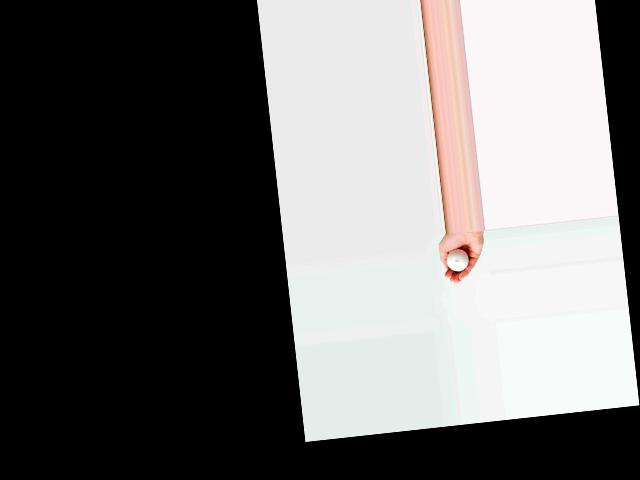egg: (446, 248, 470, 272)
